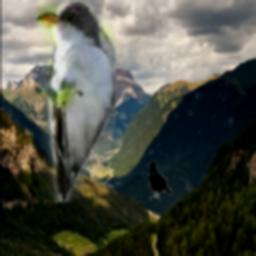Crow: (147, 160, 174, 200)
Cuckoo: (36, 0, 116, 202)
